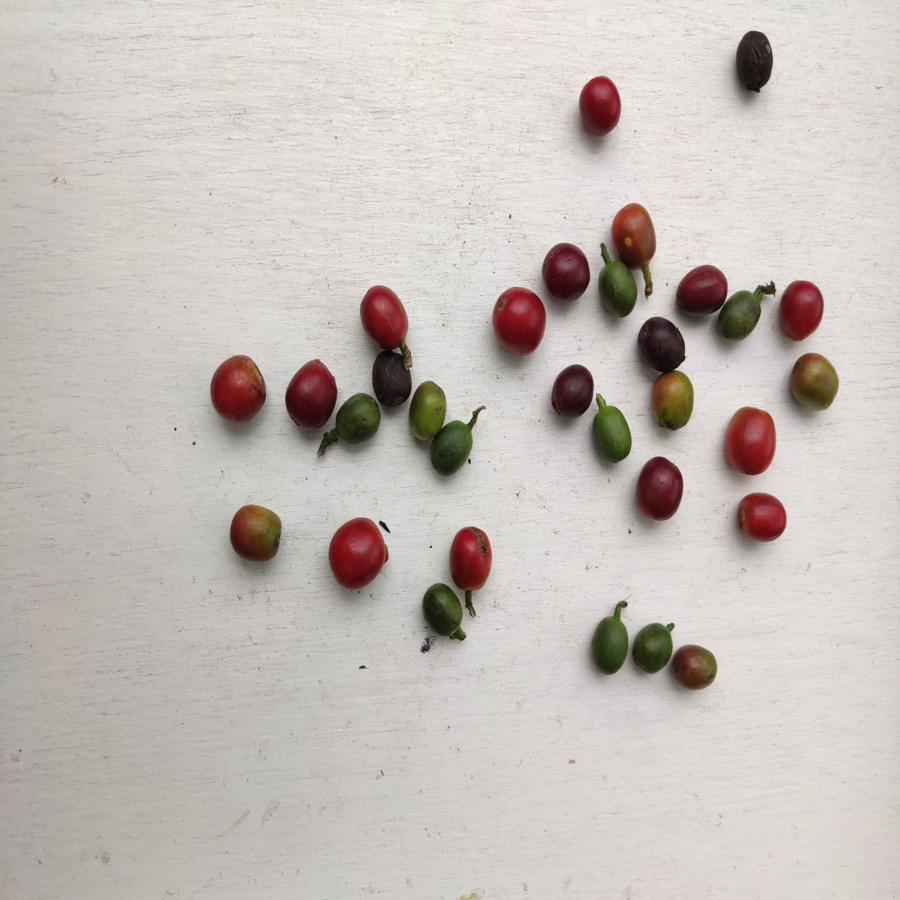Inmaduro: (590, 403, 636, 464), (418, 580, 466, 638), (334, 394, 383, 447), (591, 613, 631, 676), (431, 420, 474, 478), (597, 262, 641, 317), (719, 289, 764, 341), (633, 620, 671, 678)
Maduro: (326, 514, 388, 592), (208, 354, 267, 423), (357, 280, 413, 352), (492, 286, 549, 356), (723, 405, 778, 477), (444, 524, 493, 592), (575, 74, 623, 142), (732, 492, 790, 542), (780, 278, 824, 341)
Pinton: (227, 501, 285, 563), (789, 352, 842, 413), (610, 203, 657, 270), (650, 371, 695, 433), (671, 643, 720, 690), (408, 380, 445, 441)
Sobremaduro: (283, 359, 337, 429), (635, 453, 684, 523), (540, 242, 592, 302), (636, 312, 687, 371), (733, 29, 774, 94), (548, 362, 595, 417), (371, 348, 413, 408), (677, 265, 723, 318)
